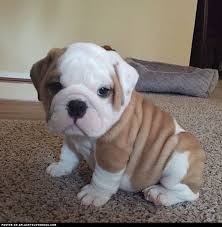Bulldog: (20, 28, 219, 215)
